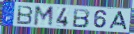4: (55, 7, 70, 28)
6: (94, 10, 108, 29)
A: (109, 10, 129, 31)
B: (72, 8, 91, 29), (16, 5, 34, 26)
M: (32, 5, 55, 28)
